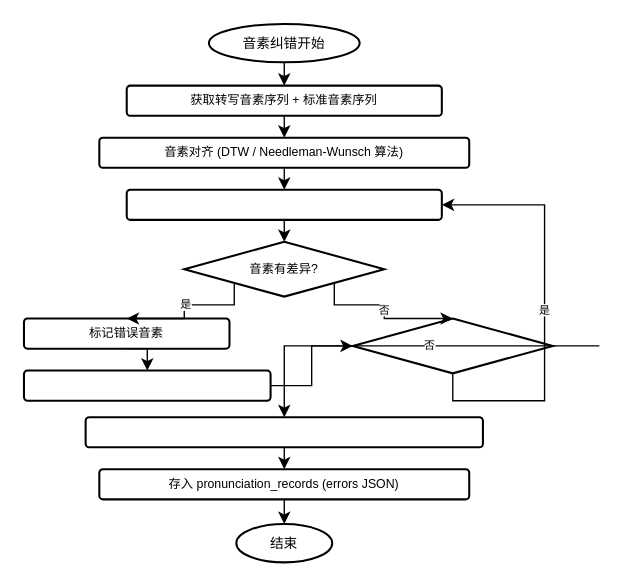
The diagram is 636 pixels wide and 588 high, and some of its shapes have lost their labels. The shapes that lost their labels are listed below. From the top down, each one's centre as x and y in pixels, then its label:
At [283,204]: "逐音素比较 (遍历对齐序列)".
At [452,345]: "还有下一音素?".
At [146,385]: "查音素-中文纠音建议库".
At [283,432]: "汇总: 错误音素列表 + IPA 音标 + 纠音建议".
